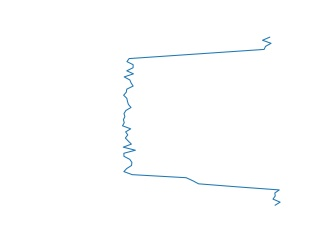distributaryChannelFill: (117, 34, 287, 208)
